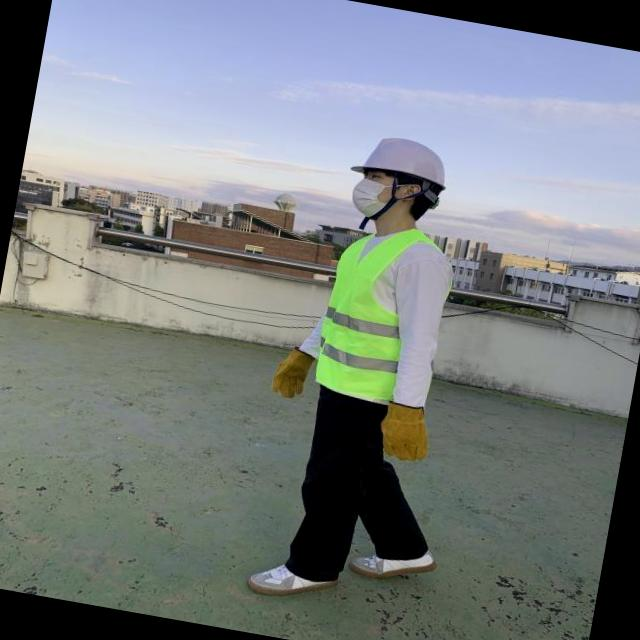vest: (312, 216, 459, 409)
